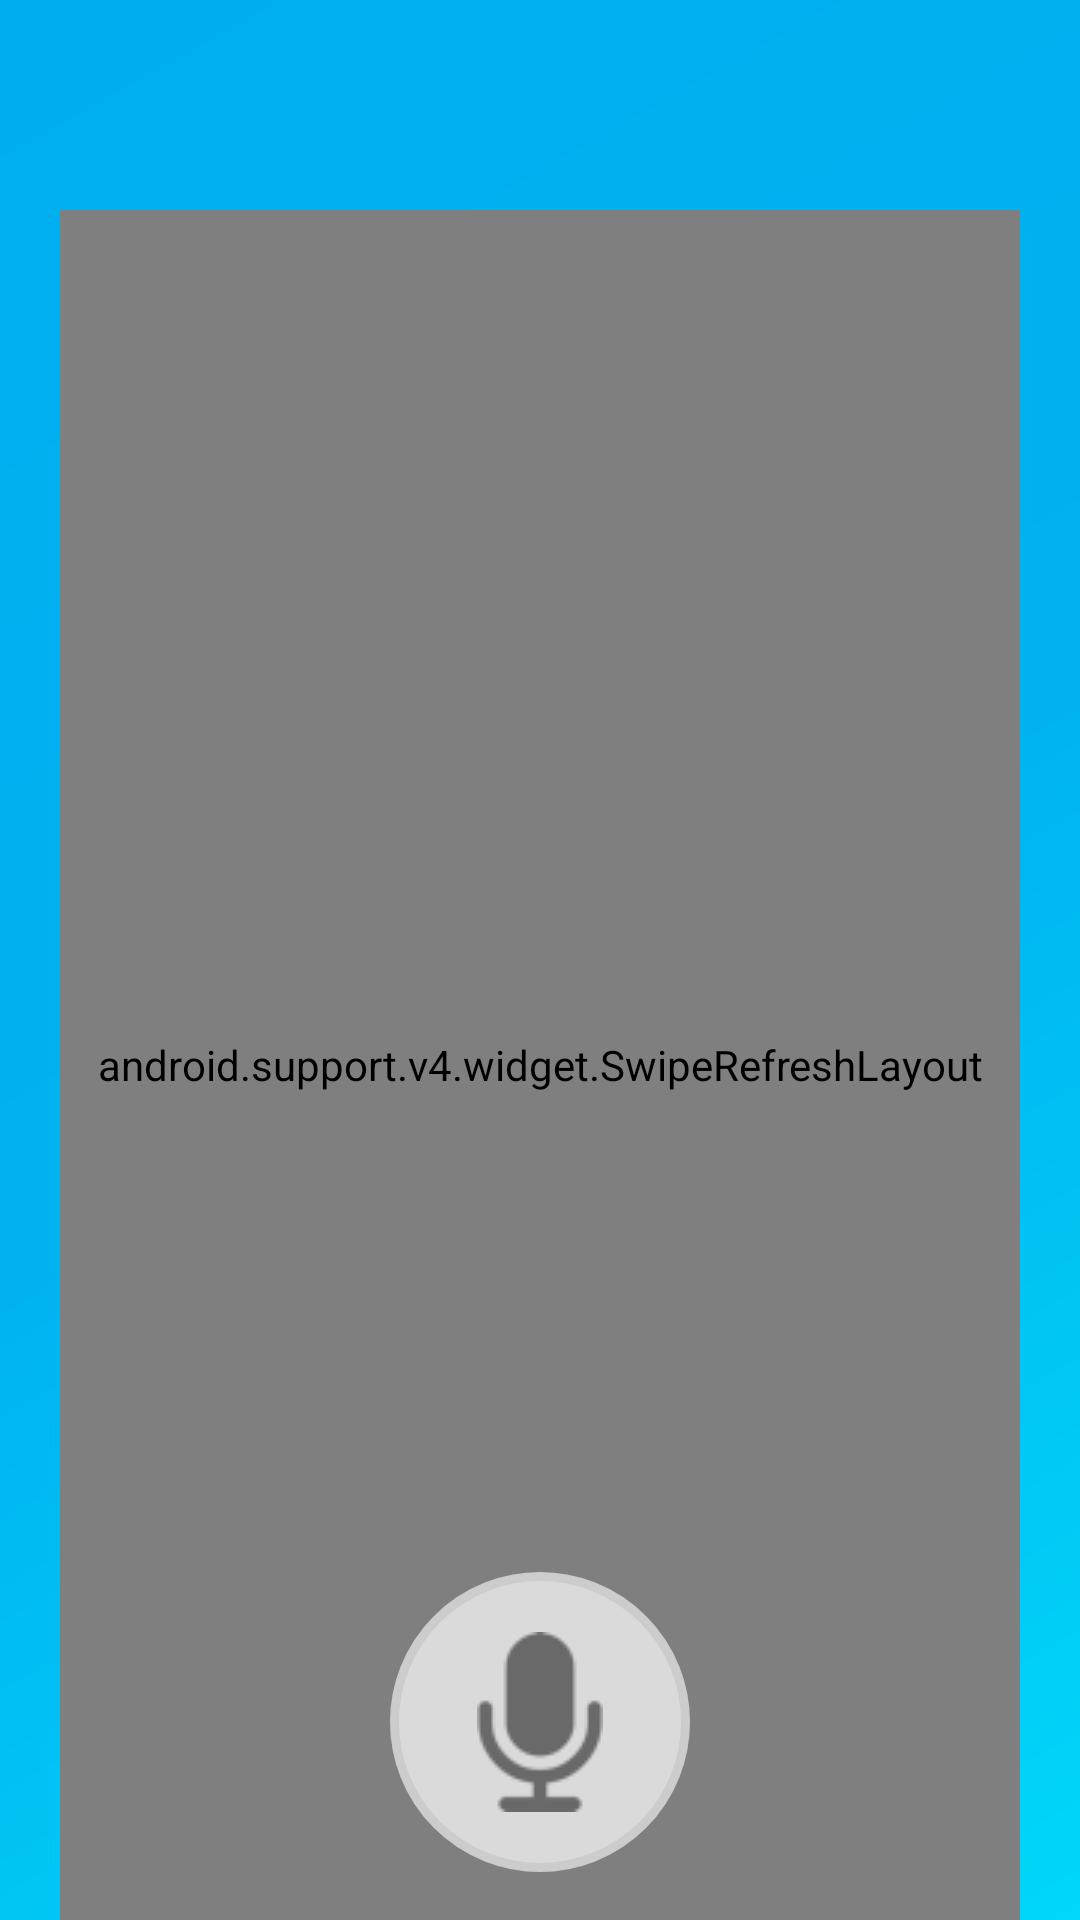

Icon click points for this 1080*1920 phone screenshot, format (x,y):
microphone shape: (540,1722)
